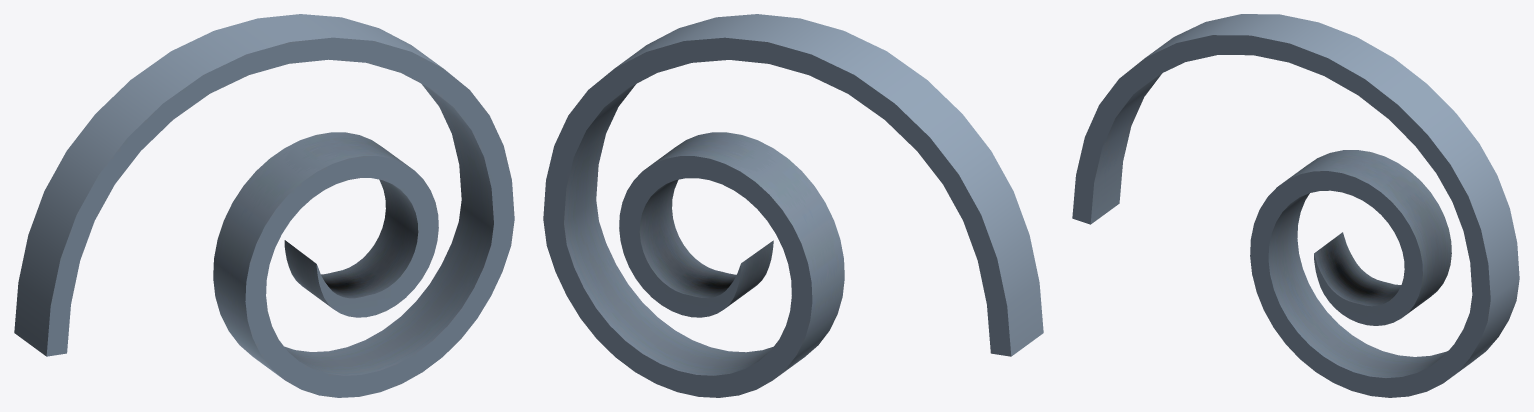
The model's file is CurlForce.DAE.
3 renders of one model, left to right at view 1: azimuth 30°, elevation 25°; view 2: azimuth 150°, elevation 25°; view 3: azimuth 330°, elevation 25°, orthographic. The views are drawn at different scales.
Parts seen in each view (by area): view 1: Curl; view 2: Curl; view 3: Curl.
Boxes of the visible parts, x1,y1,x2,y2 form: Curl: [14, 14, 514, 397]; Curl: [543, 14, 1043, 397]; Curl: [1072, 14, 1519, 397].
Size of the model in its own units: 91.27 by 10.93 by 69.35.
Materials: 1 (1 with a texture image).
